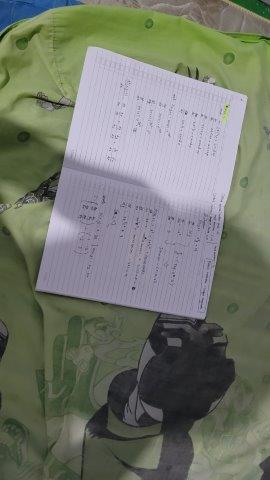kertas: (32, 47, 249, 322)
